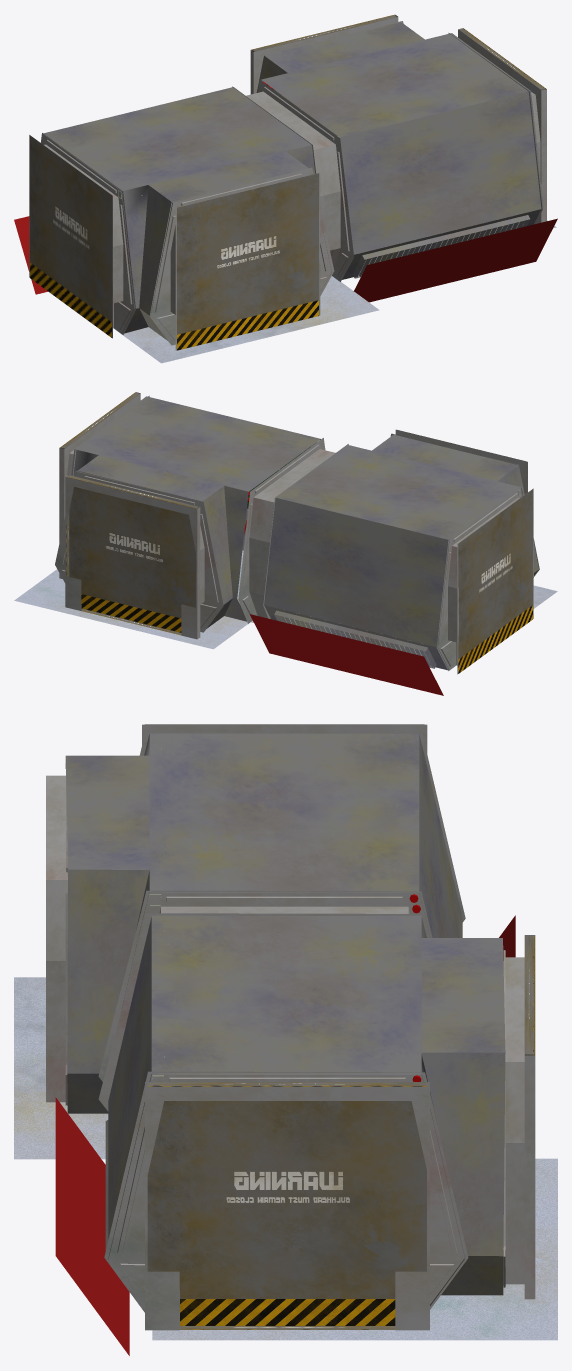
Rendered from AntonPhibes4.FBX.
The picture shows the model from 3 angles, top to bottom: view 1: azimuth 30°, elevation 25°; view 2: azimuth 150°, elevation 25°; view 3: azimuth 270°, elevation 25°; orthographic projection. The views are drawn at different scales.
Visible parts, largest first — view 1: WallsCeilingT02, WallsCeilingT, DoorInner4, DoorInner3, VentPanel02, Bulkhead-NoDoor02, BulkheadInner4, FloorT, BulkheadInner3, Bulkhead06, BulkheadOuter5, VentPanel (+2 smaller); view 2: WallsCeilingT, WallsCeilingT02, DoorOuter5, DoorInner3, VentPanel, BulkheadOuter5, Bulkhead-NoDoor02, FloorT02, BulkheadInner3, Bulkhead06, BulkheadInner4, FloorT (+1 smaller); view 3: WallsCeilingT02, WallsCeilingT, Door05, Bulkhead06, FloorT02, VentPanel02, BulkheadOuter5, Bulkhead-NoDoor02, FloorT, BulkheadInner4, BulkheadInner3, DoorOuter5.
Part boxes in pixels (box(x1,y1,x2,y2)): WallsCeilingT02: box(256, 22, 543, 254); WallsCeilingT: box(41, 87, 331, 341); DoorInner4: box(177, 173, 318, 350); DoorInner3: box(30, 135, 111, 337); VentPanel02: box(338, 209, 557, 302); Bulkhead-NoDoor02: box(232, 80, 354, 281); BulkheadInner4: box(149, 167, 334, 350); FloorT: box(113, 276, 379, 363); BulkheadInner3: box(29, 133, 135, 338); Bulkhead06: box(448, 28, 546, 225); BulkheadOuter5: box(250, 14, 403, 94); VentPanel: box(14, 216, 47, 294); WallsCeilingT: box(264, 434, 538, 647); WallsCeilingT02: box(61, 396, 320, 628); DoorOuter5: box(66, 475, 198, 635); DoorInner3: box(458, 489, 532, 673); VentPanel: box(249, 605, 449, 695); BulkheadOuter5: box(55, 470, 223, 639); Bulkhead-NoDoor02: box(238, 438, 348, 623); FloorT02: box(14, 550, 247, 649); BulkheadInner3: box(437, 486, 534, 674); Bulkhead06: box(59, 392, 149, 578); BulkheadInner4: box(390, 429, 539, 576); FloorT: box(251, 585, 557, 670); WallsCeilingT02: box(108, 915, 505, 1305); WallsCeilingT: box(65, 733, 462, 1113); Door05: box(147, 1082, 427, 1329); Bulkhead06: box(104, 1071, 468, 1330); FloorT02: box(152, 1158, 557, 1340); VentPanel02: box(55, 1097, 144, 1355); BulkheadOuter5: box(503, 935, 535, 1299); Bulkhead-NoDoor02: box(98, 890, 432, 1111); FloorT: box(14, 977, 108, 1159); BulkheadInner4: box(46, 775, 67, 1105); BulkheadInner3: box(139, 724, 465, 922); DoorOuter5: box(525, 936, 534, 1055).
Bounding box in the file's own units: 819 × 506 × 291.
9 materials, 6 textured.
